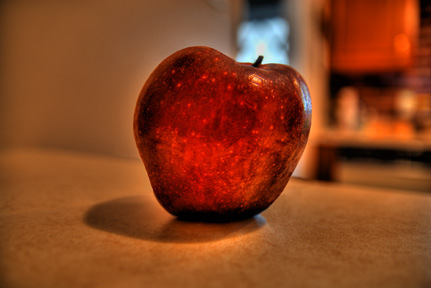apple: (128, 45, 311, 226)
